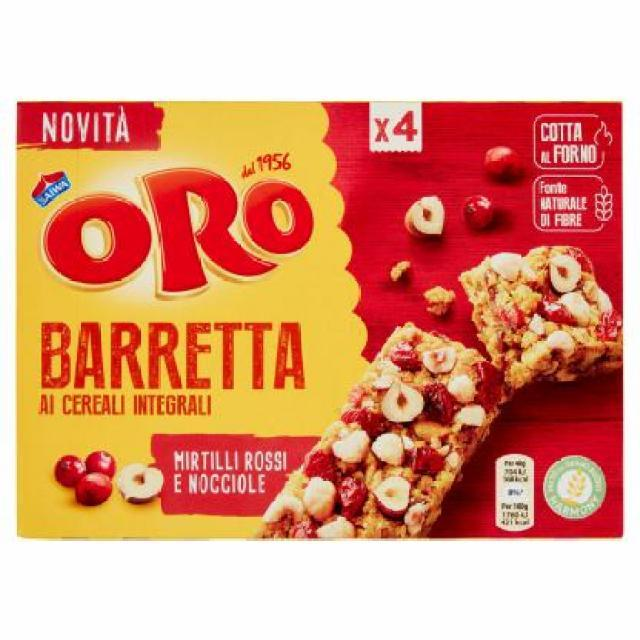Cereal bar: (2, 85, 630, 548)
